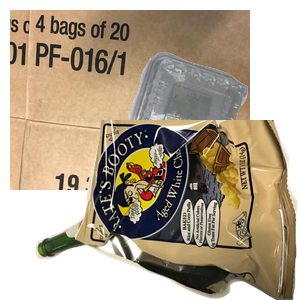cardboard: (10, 10, 250, 190)
glass: (33, 158, 246, 300)
plastic: (123, 50, 300, 214)
trash: (75, 120, 300, 300)
